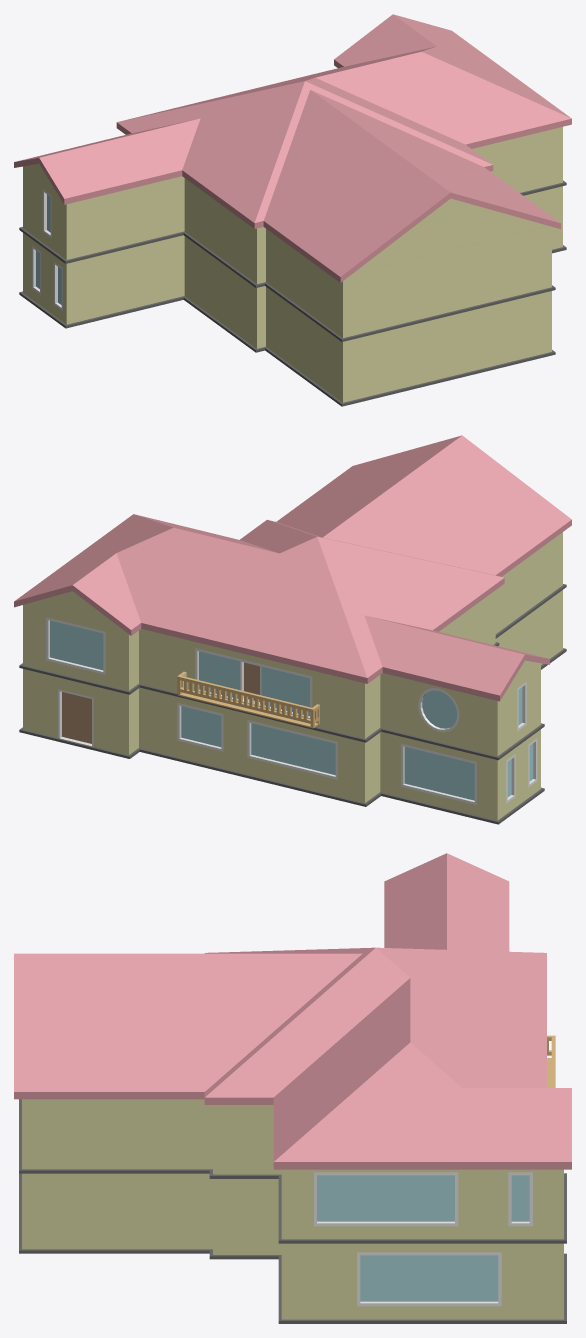
File: randon building 2.fbx
The picture shows the model from 3 angles, top to bottom: view 1: azimuth 30°, elevation 25°; view 2: azimuth 150°, elevation 25°; view 3: azimuth 270°, elevation 25°; orthographic projection. The views are drawn at different scales.
Parts seen in each view (by area): view 1: building_003; view 2: building_003; view 3: building_003.
Boxes of the visible parts, x1,y1,x2,y2 form: building_003: (14, 14, 571, 406); building_003: (14, 435, 571, 824); building_003: (14, 853, 571, 1323).
Bounding box in the file's own units: 5061 × 2030 × 4253.
